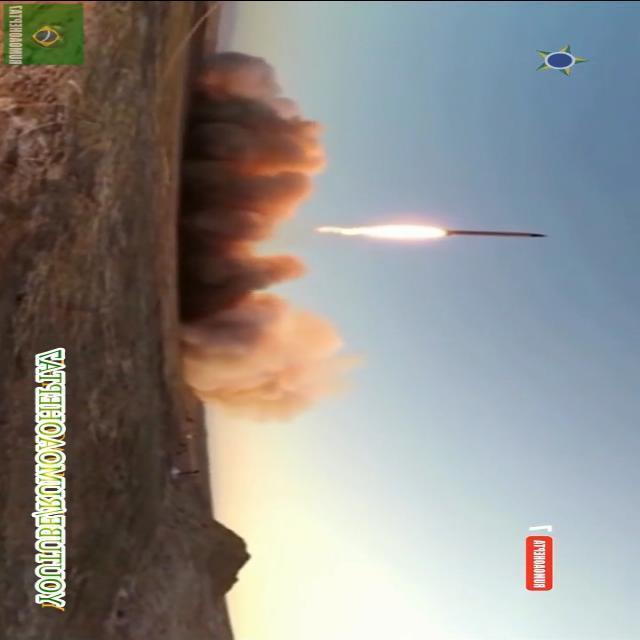missile: (442, 226, 546, 240)
